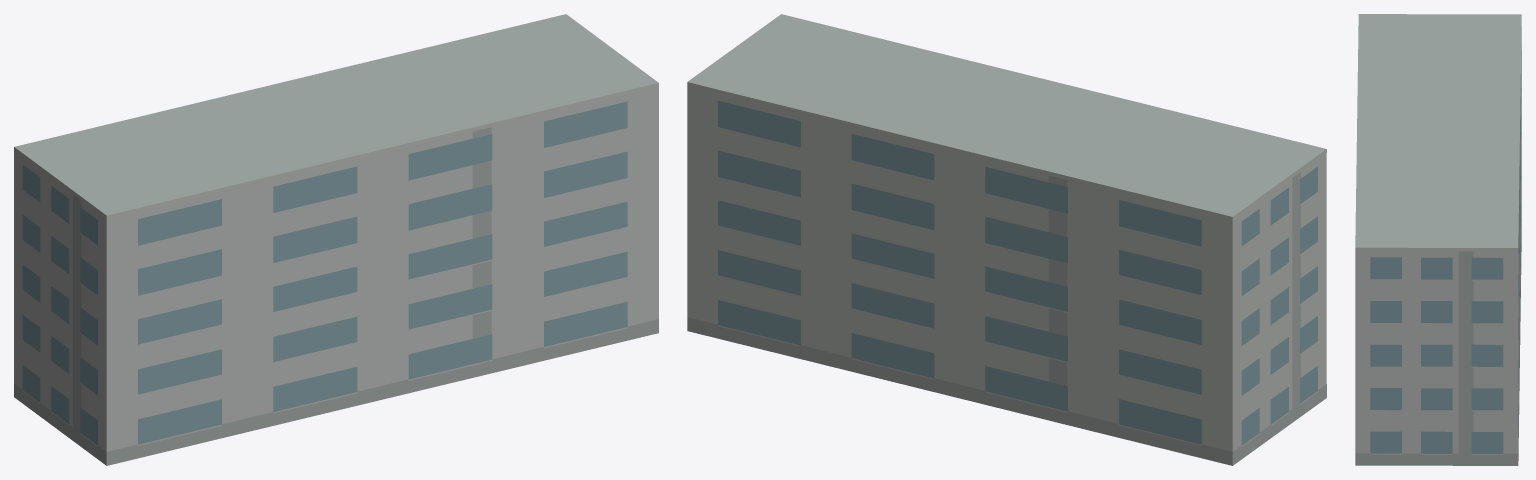
File: residential-18e087e7-ad20-415c-9860-a896e9dd1b1e.glb
The picture shows the model from 3 angles, left to right: view 1: azimuth 30°, elevation 25°; view 2: azimuth 150°, elevation 25°; view 3: azimuth 270°, elevation 25°; orthographic projection. The views are drawn at different scales.
Visible parts, largest first — view 1: residential-18e087e7-ad20-415c-9860-a896e9dd1b1e.tmp; view 2: residential-18e087e7-ad20-415c-9860-a896e9dd1b1e.tmp; view 3: residential-18e087e7-ad20-415c-9860-a896e9dd1b1e.tmp.
Boxes of the visible parts, <box> form: residential-18e087e7-ad20-415c-9860-a896e9dd1b1e.tmp: <box>14,14,658,465</box>; residential-18e087e7-ad20-415c-9860-a896e9dd1b1e.tmp: <box>687,14,1326,465</box>; residential-18e087e7-ad20-415c-9860-a896e9dd1b1e.tmp: <box>1355,14,1521,465</box>.
Size of the model in its own units: 35.16 by 15.25 by 10.57.
